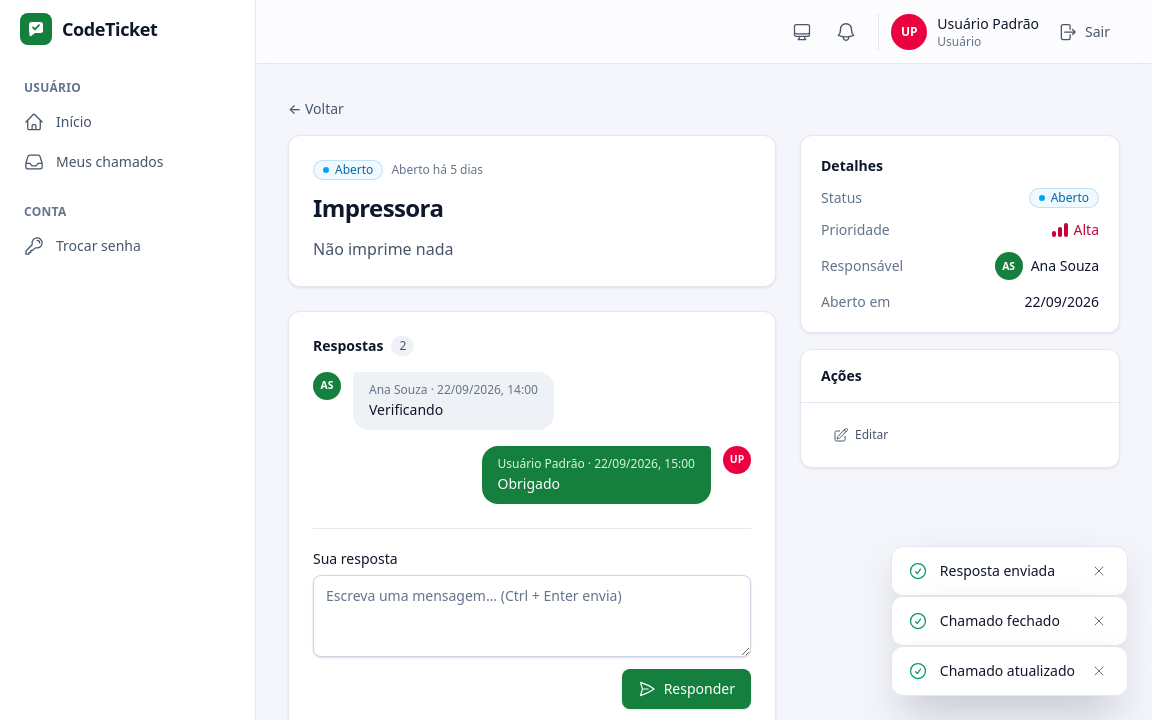
it: TicketDetailView › editing › can be cancelled without saving
The image size is (1152, 720).
Expected: the heading "Impressora" is shown, x1=313 y1=191 x2=443 y2=224
Click the button "Editar".
click(861, 435)  # box x1=821 y1=419 x2=900 y2=451
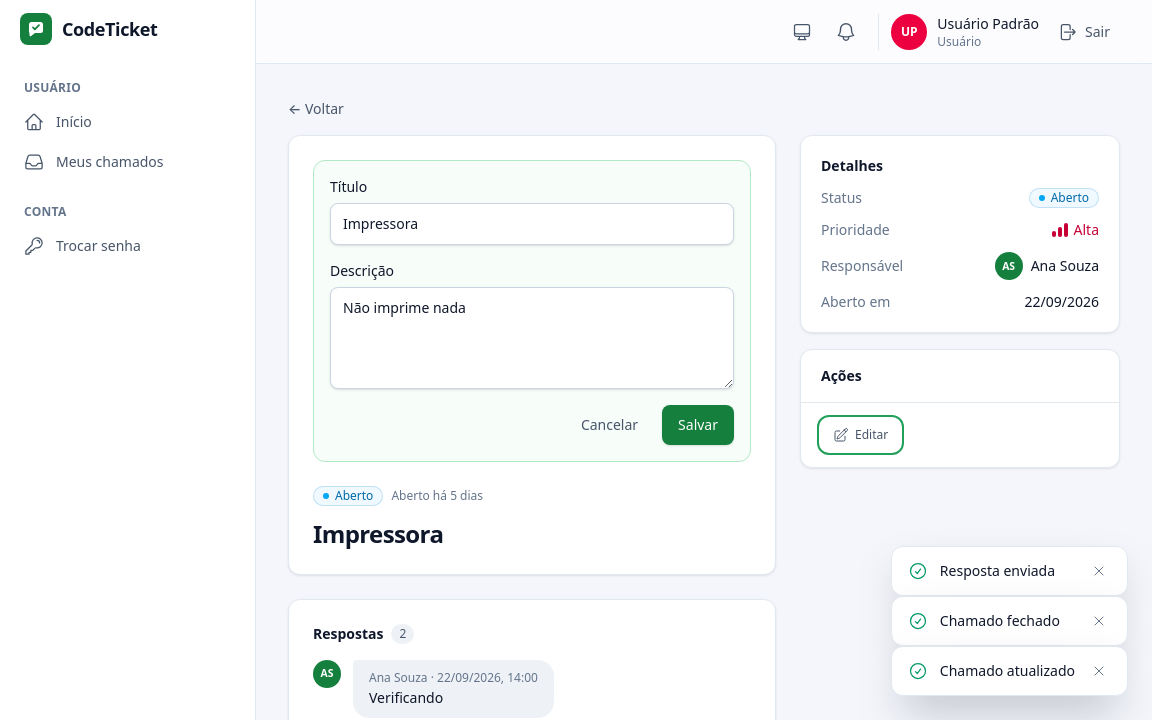
Click the button "Cancelar".
click(610, 425)  # box x1=565 y1=405 x2=654 y2=445
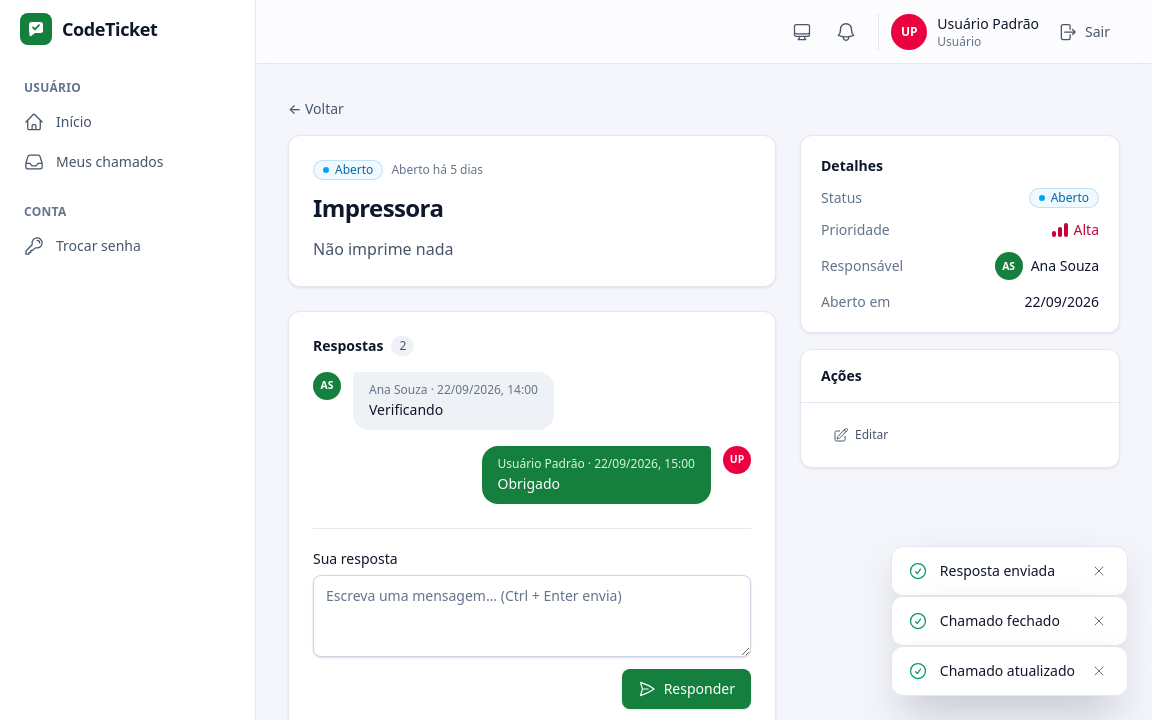
Expected: the label labelled "Título" is gone
